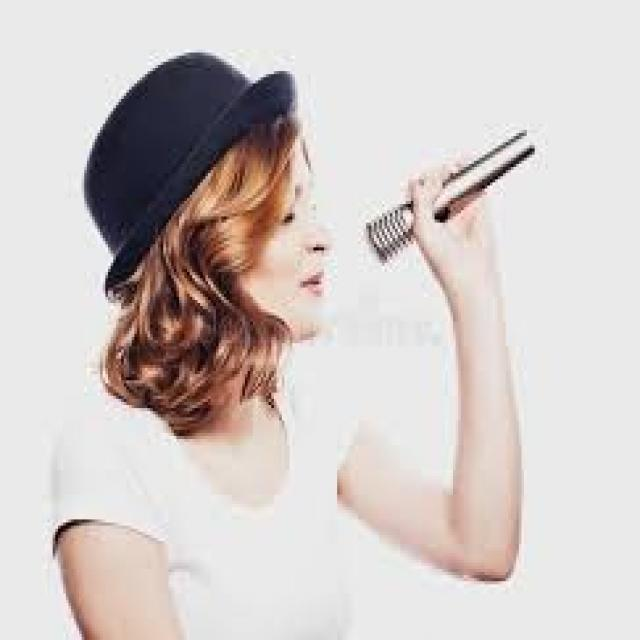hat: (55, 38, 305, 292)
